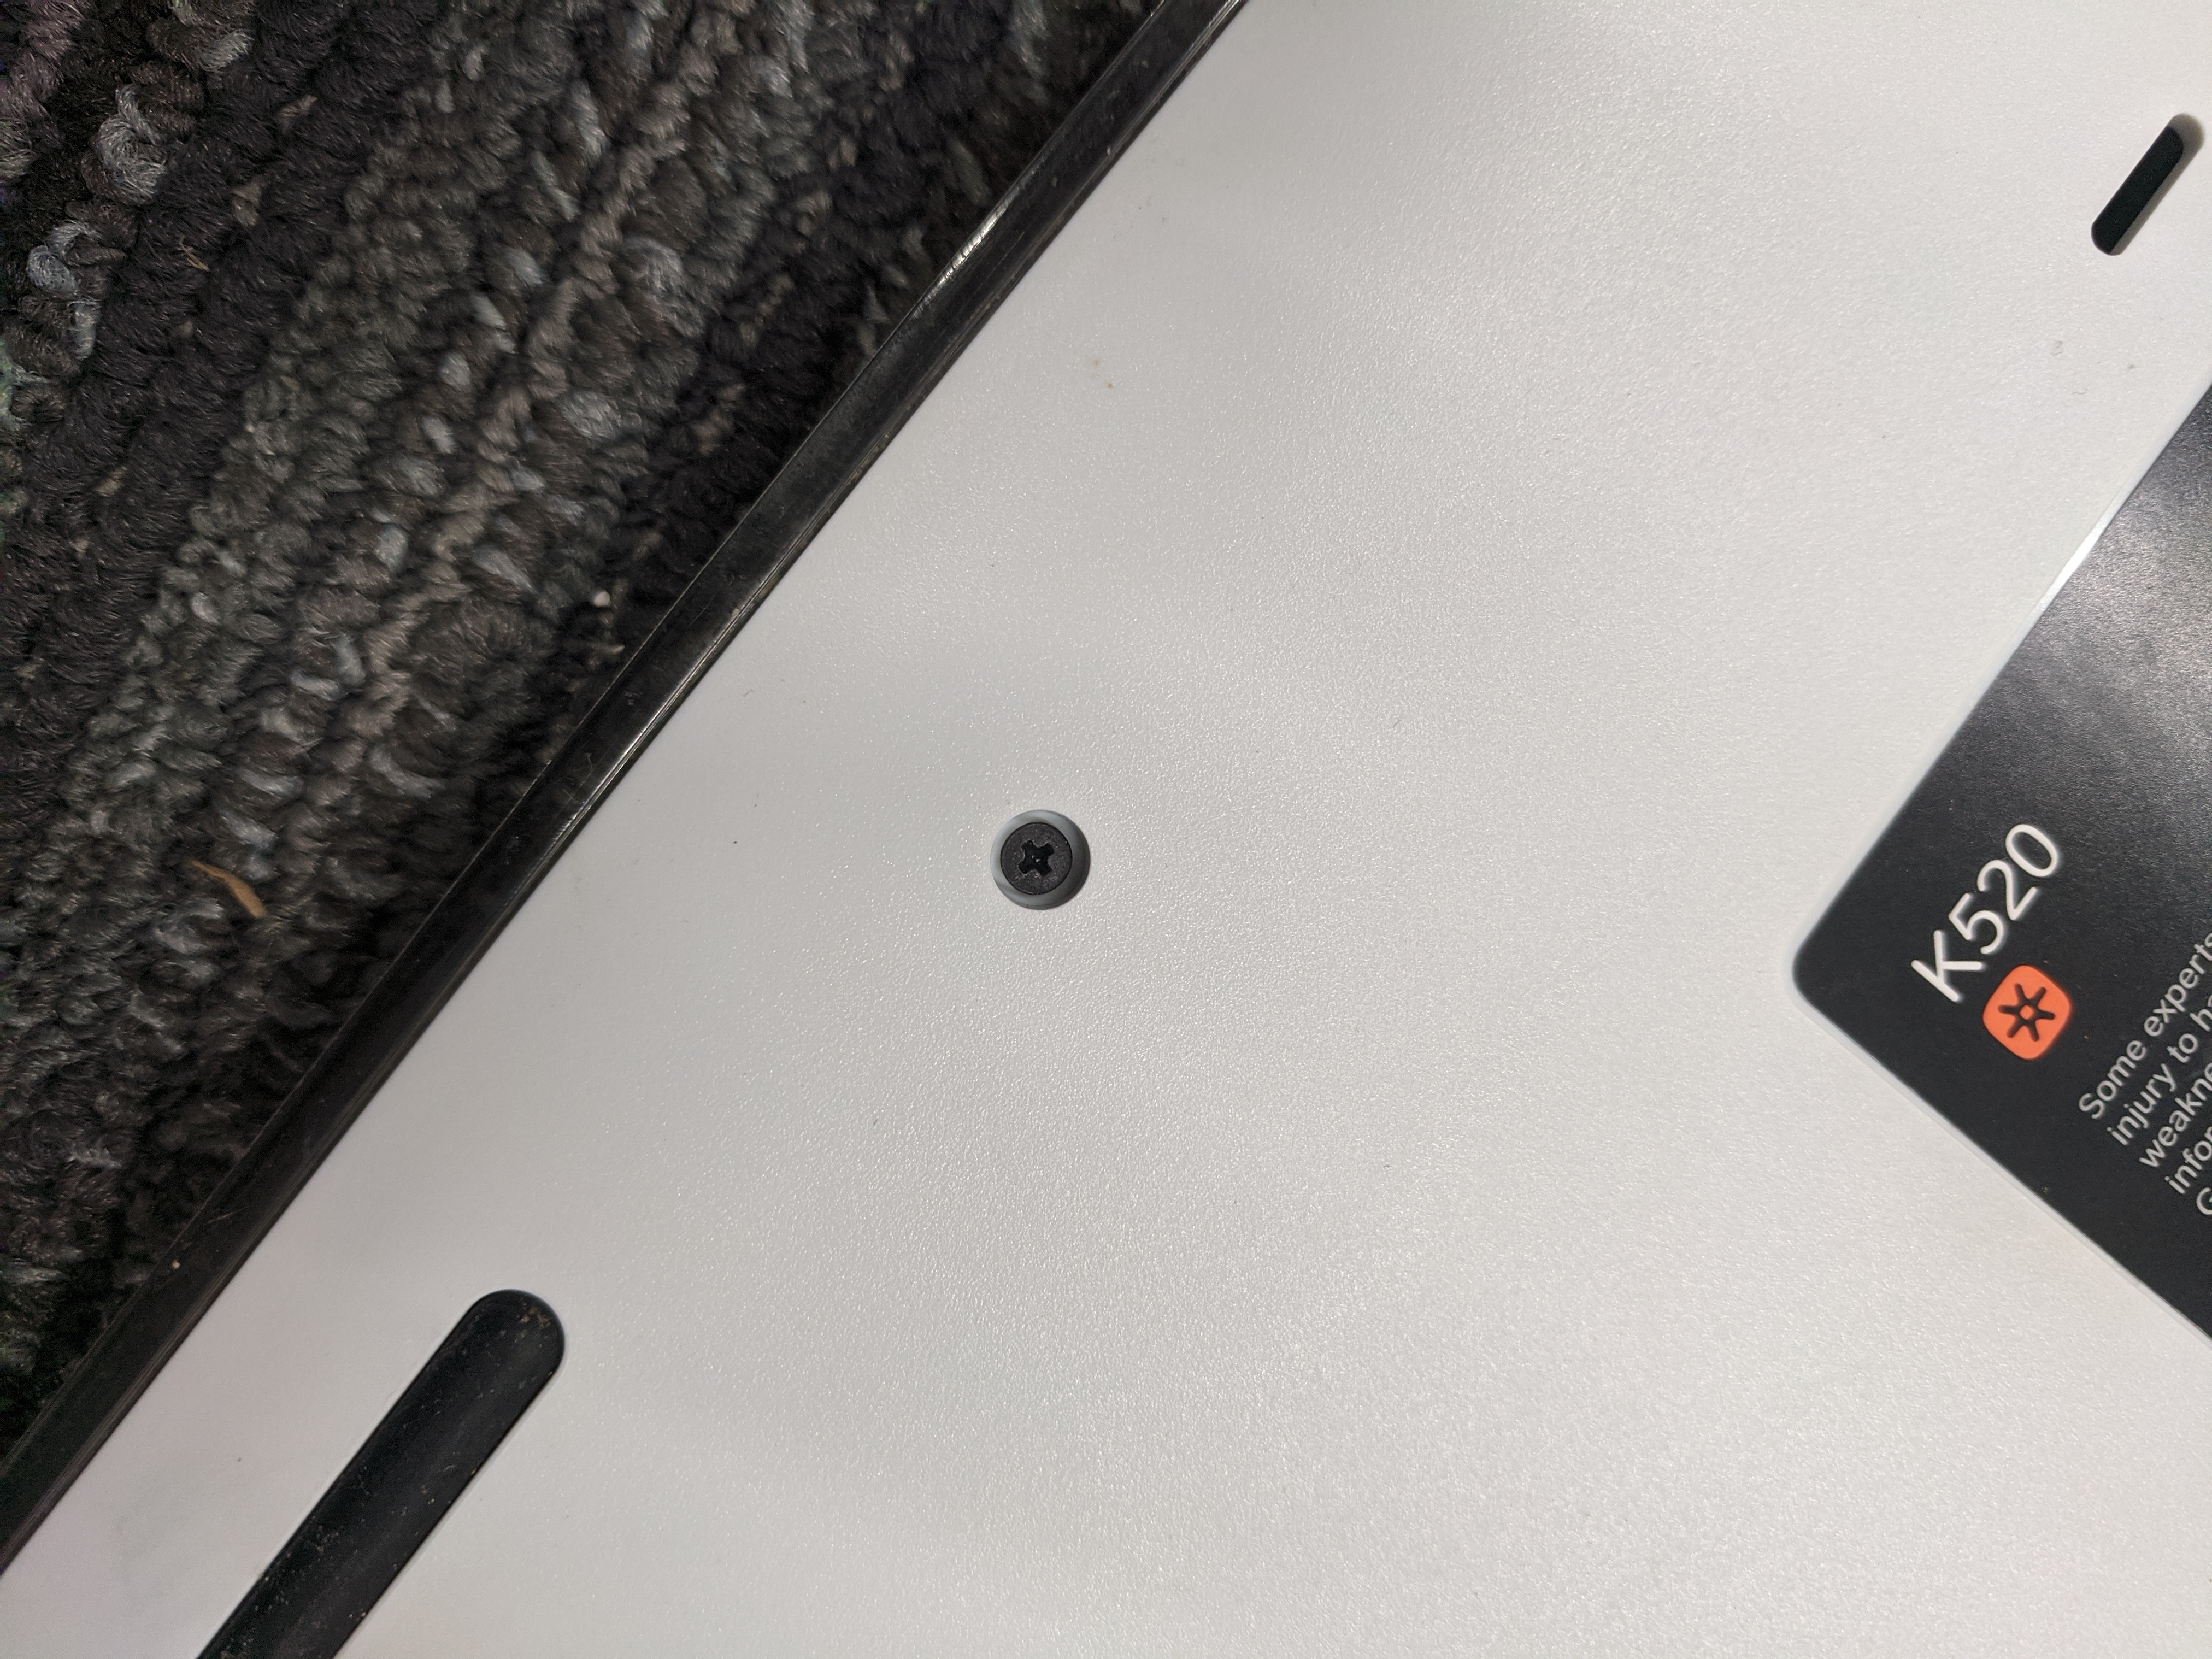cross_recessed_screw: (995, 809, 1099, 901)
